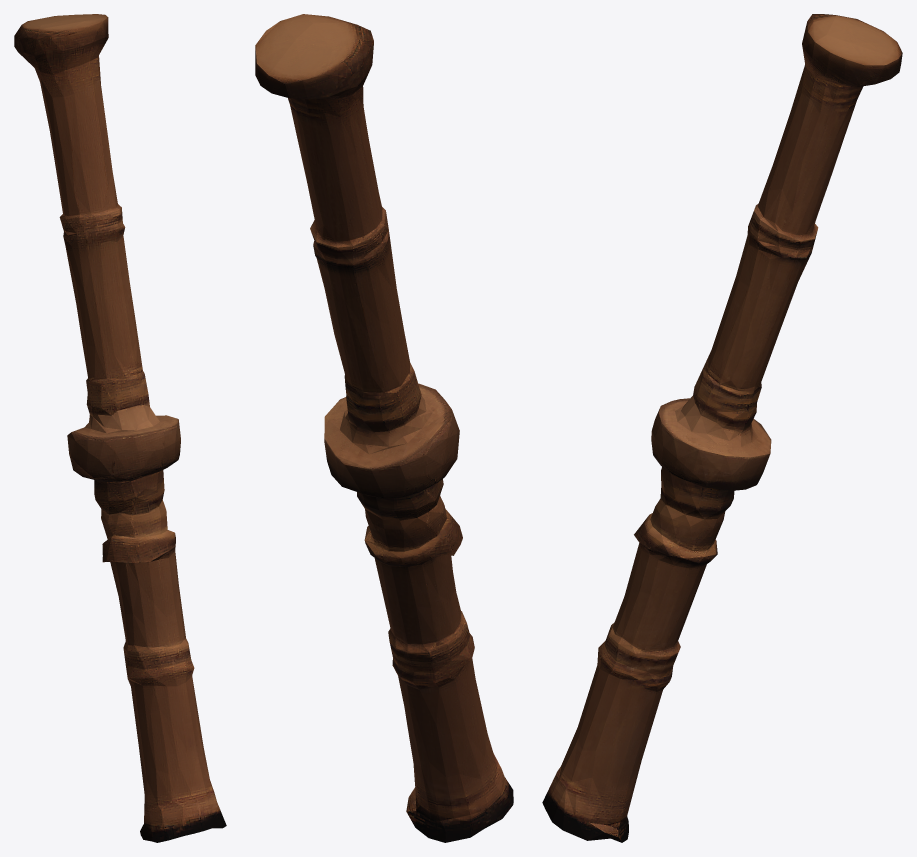
File: condition.glb
3 views of the same model, side by side, from view 1: azimuth 30°, elevation 25°; view 2: azimuth 150°, elevation 25°; view 3: azimuth 270°, elevation 25° (orthographic). The views are drawn at different scales.
Visible parts, largest first — view 1: world; view 2: world; view 3: world.
Part boxes in pixels (bbox=[...]): world: bbox=[14, 14, 226, 842]; world: bbox=[255, 14, 513, 842]; world: bbox=[542, 14, 902, 842].
Size of the model in its own units: 0.1033 by 0.744 by 0.3006.
Materials: 1 (1 with a texture image).
